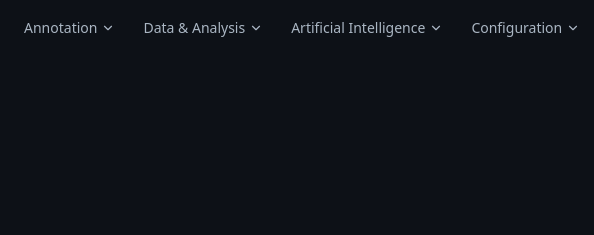
DatasetNav › closes an open menu on Escape
Step 1. Click the button "Data & Analysis" → [203, 28], box [131,12,275,44]
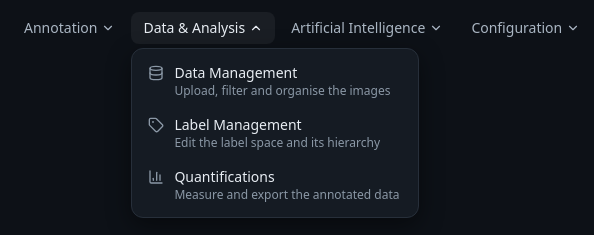
Check: the text "Quantifications" is shown, box [174,167,275,186]
Step 2. Press Escape
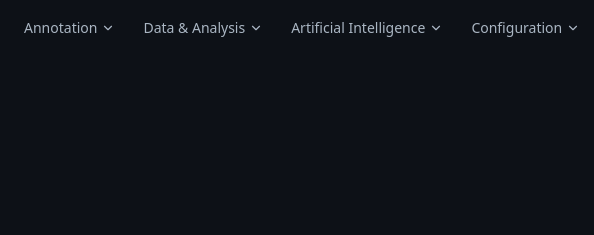
Check: the menu item "Quantifications" is gone
